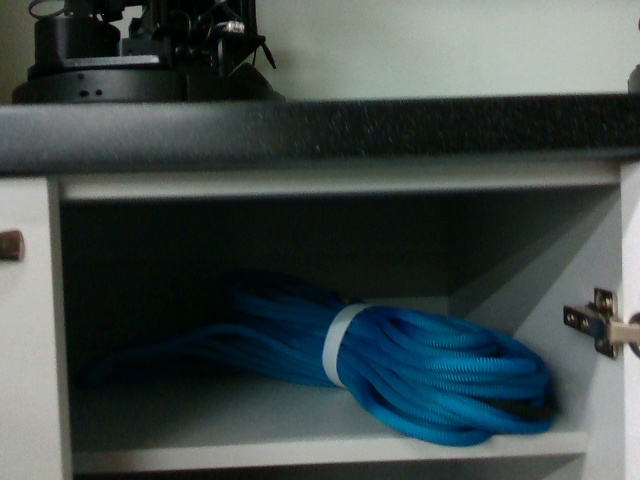rope: (187, 266, 564, 448)
